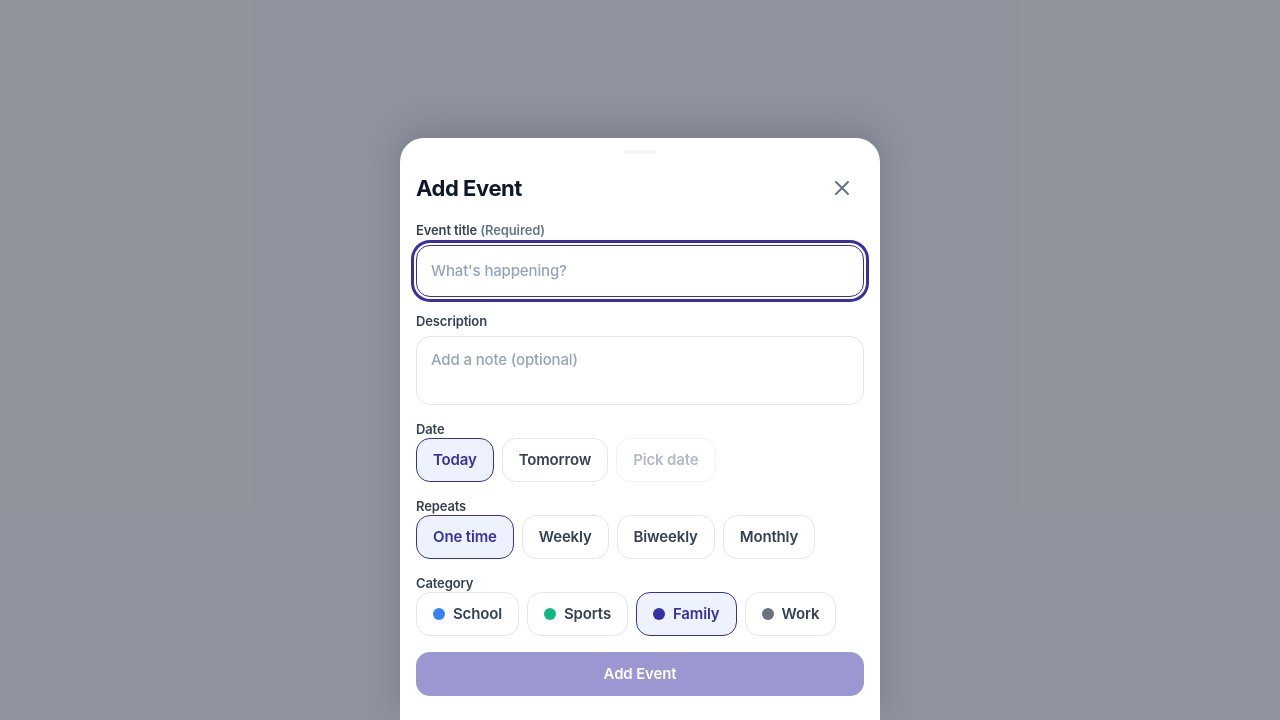
it: AddEvent — non-empty title validation (edge; aria-disabled focusable submit) › clears aria-disabled once there is a non-whitespace title
In the field labelled "Event title (Required)": (640, 271) top-left (431, 260), bottom-right (849, 282), type "Recital"
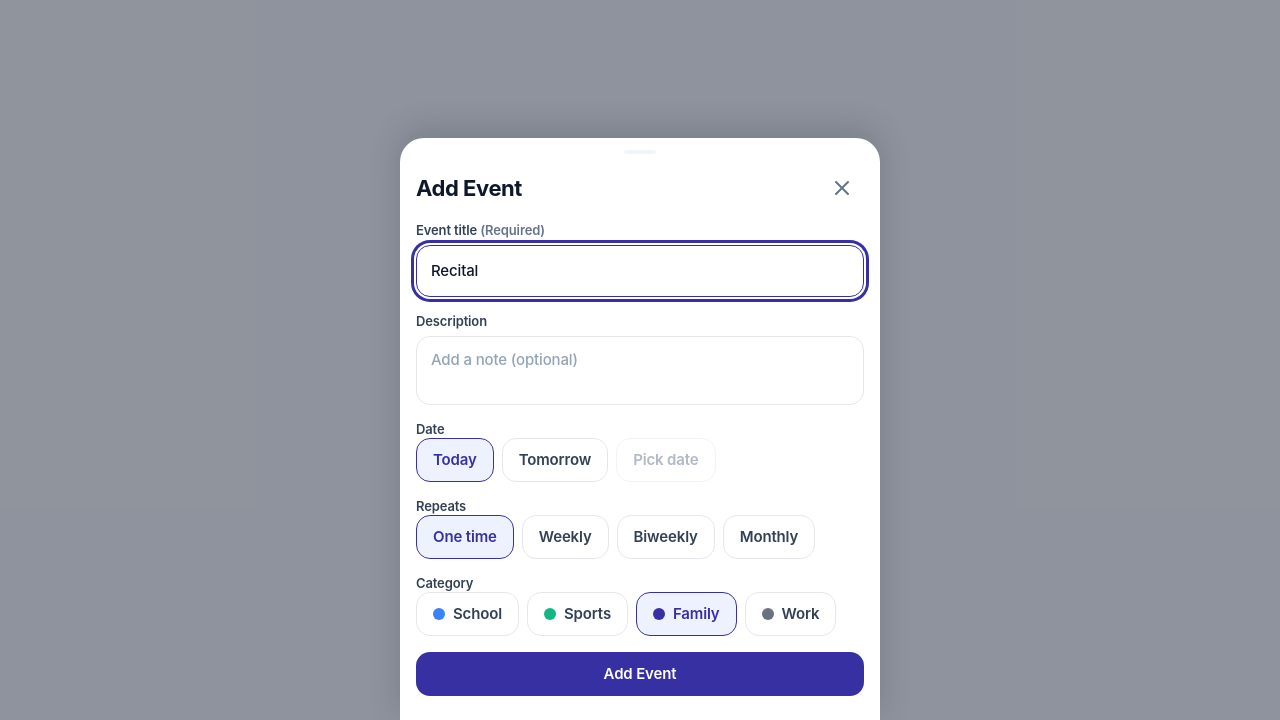
Expected: the button "Add Event" is enabled, top-left (416, 652), bottom-right (864, 696)
